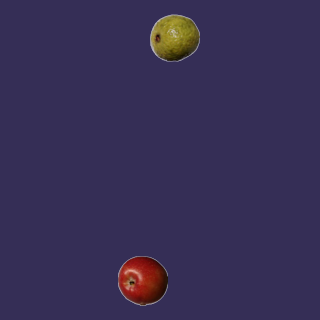Apple Braeburn: (117, 255, 167, 305)
Guava: (149, 12, 199, 62)
